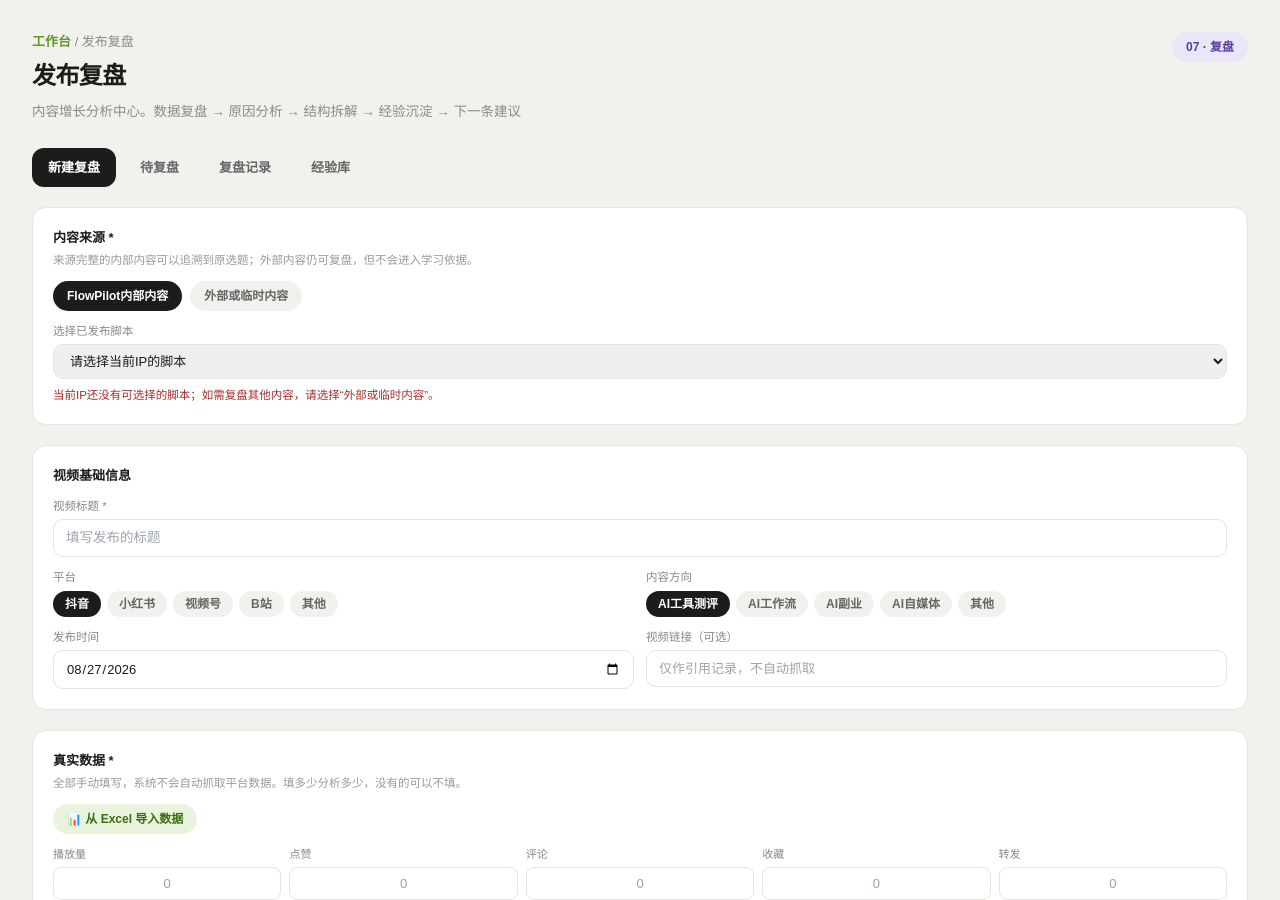
没有当前IP时复盘记录不展示任何跨IP数据
Click the button "复盘记录" at coordinates (245, 167), box [203,148,287,187]
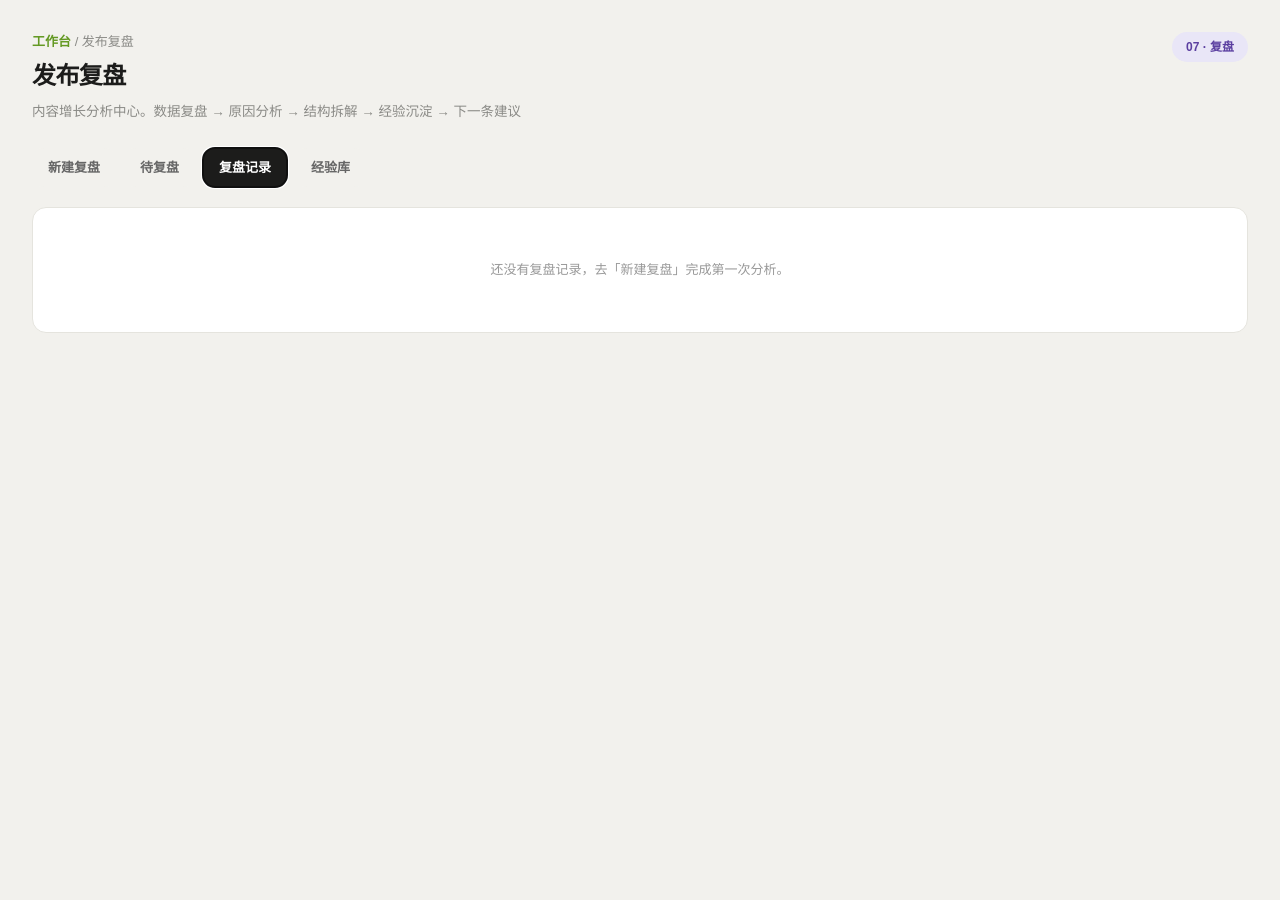
expect the text "还没有复盘记录，去「新建复盘」完成第一次分析。" is shown: met, box [490,262,790,277]
